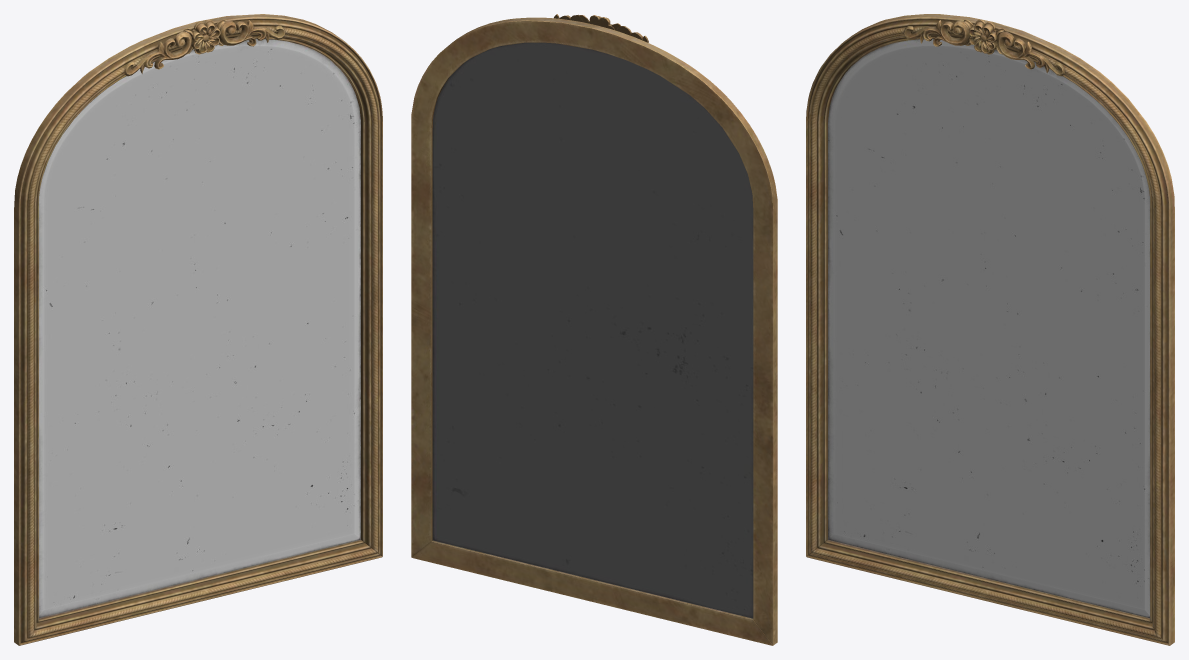
Rendered from ornate_mirror_01_lod1.glb.
3 renders of one model, left to right at view 1: azimuth 30°, elevation 25°; view 2: azimuth 150°, elevation 25°; view 3: azimuth 330°, elevation 25°, orthographic.
Parts seen in each view (by area): view 1: ornate_mirror_01; view 2: ornate_mirror_01; view 3: ornate_mirror_01.
Boxes of the visible parts, x1,y1,x2,y2 form: ornate_mirror_01: (14, 14, 382, 645); ornate_mirror_01: (411, 14, 777, 645); ornate_mirror_01: (806, 14, 1174, 645).
Size of the model in its own units: 0.4865 by 0.7442 by 0.026.
1 material, 1 textured.
